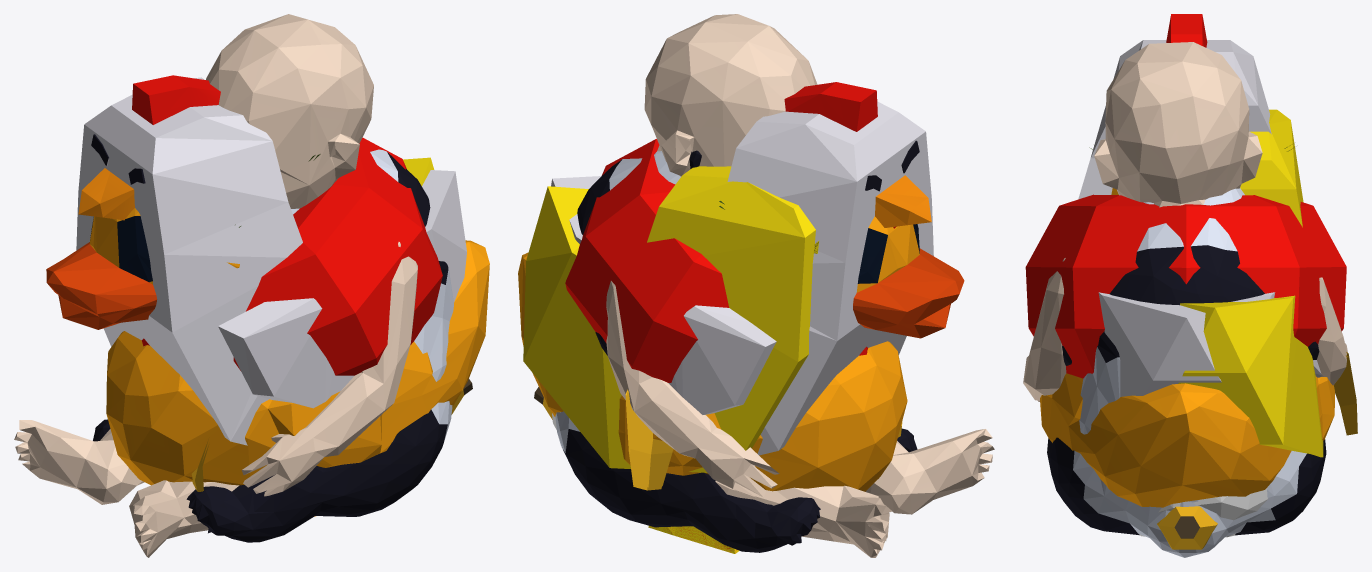
File: all_models.fbx
The picture shows the model from 3 angles, left to right: view 1: azimuth 30°, elevation 25°; view 2: azimuth 150°, elevation 25°; view 3: azimuth 270°, elevation 25°; orthographic projection. The views are drawn at different scales.
Parts seen in each view (by area): view 1: Toon Chicken, baby, rubber duck, strawberry, Panda; view 2: Toon Chicken, baby, Toon Chick, rubber duck, strawberry, Panda, banana; view 3: baby, strawberry, rubber duck, Panda, Toon Chick, Toon Chicken, banana.
Part boxes in pixels (bbox=[...]): Toon Chicken: bbox=[76, 75, 466, 516]; baby: bbox=[14, 14, 417, 557]; rubber duck: bbox=[46, 208, 489, 485]; strawberry: bbox=[141, 137, 442, 375]; Panda: bbox=[93, 149, 453, 542]; Toon Chicken: bbox=[551, 82, 933, 455]; baby: bbox=[552, 14, 994, 557]; Toon Chick: bbox=[523, 166, 819, 553]; rubber duck: bbox=[518, 216, 964, 491]; strawberry: bbox=[565, 139, 867, 382]; Panda: bbox=[555, 150, 917, 552]; banana: bbox=[534, 387, 902, 490]; baby: bbox=[1023, 42, 1347, 537]; strawberry: bbox=[1025, 145, 1346, 378]; rubber duck: bbox=[1040, 188, 1334, 507]; Panda: bbox=[1047, 188, 1326, 557]; Toon Chick: bbox=[1178, 109, 1323, 457]; Toon Chicken: bbox=[1078, 14, 1323, 396]; banana: bbox=[1157, 352, 1357, 549].
Bounding box in the file's own units: 134 × 199 × 197.
